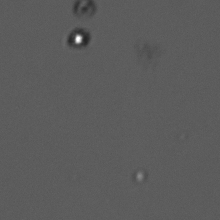Dead Cell: (74, 1, 96, 18)
Living Cell: (66, 26, 90, 49)
